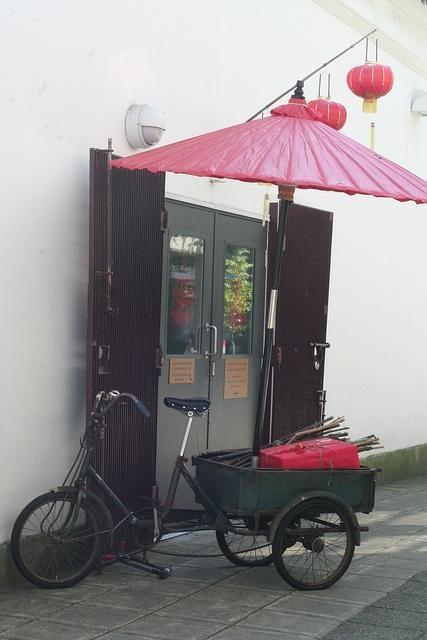bicycle: (19, 392, 376, 582)
